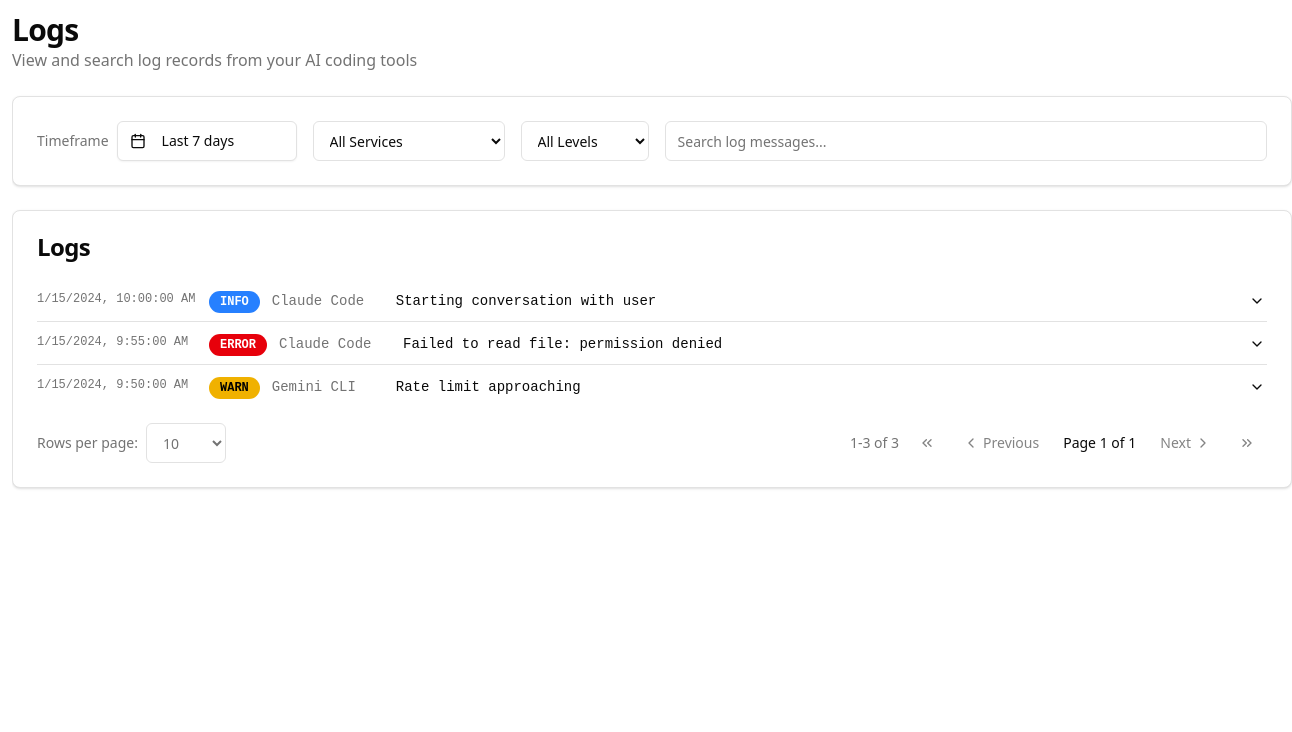
Scenario: LogsPage › collapses expanded log when clicking again
The width and height of the screenshot is (1292, 732).
Expected: the text "Starting conversation with user" is shown, x1=396 y1=293 x2=656 y2=309
# Click to expand
What coordinates should you click on to do the following:
click the button "Starting conversation with user"
I would click on:
 (652, 302)
Its box is x1=37 y1=291 x2=1267 y2=313.
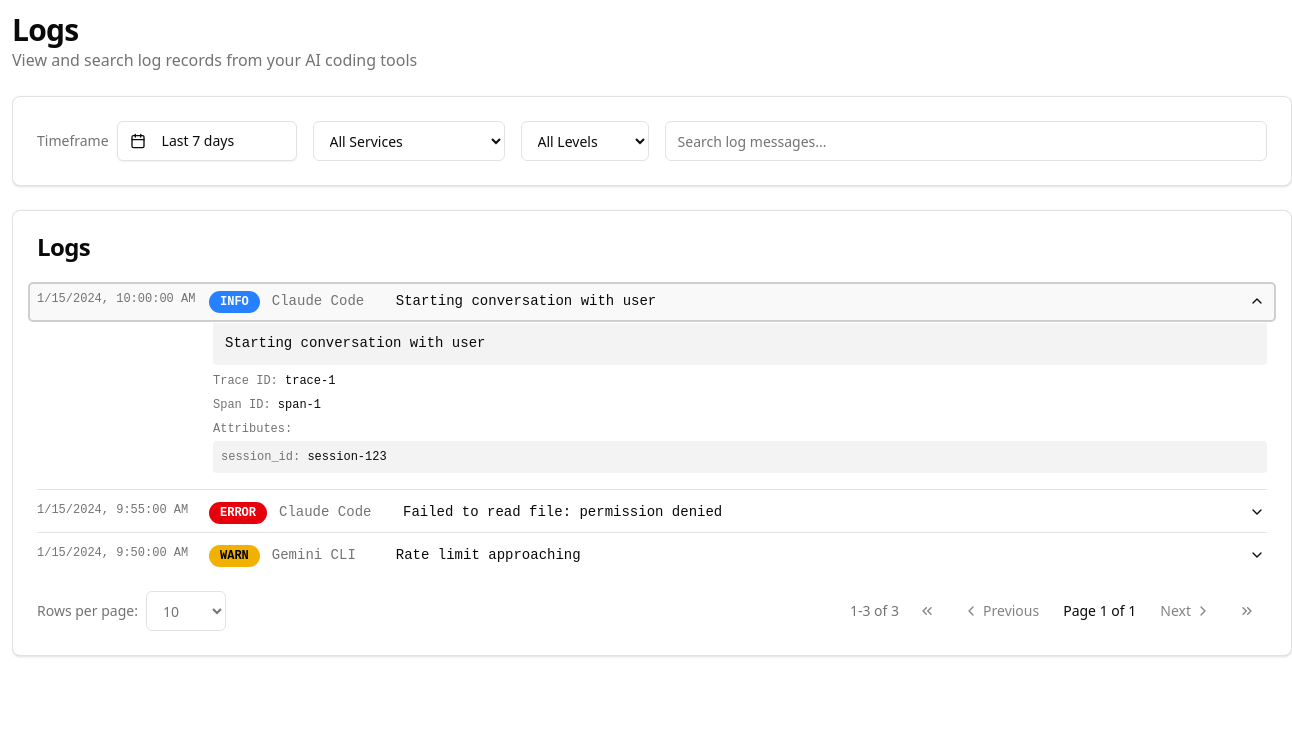
Expected: the text "Trace ID:" is shown, x1=213 y1=374 x2=285 y2=388
# Click again to collapse
What coordinates should you click on to do the following:
click the button "Starting conversation with user"
I would click on:
 (652, 302)
Its box is x1=29 y1=283 x2=1275 y2=321.
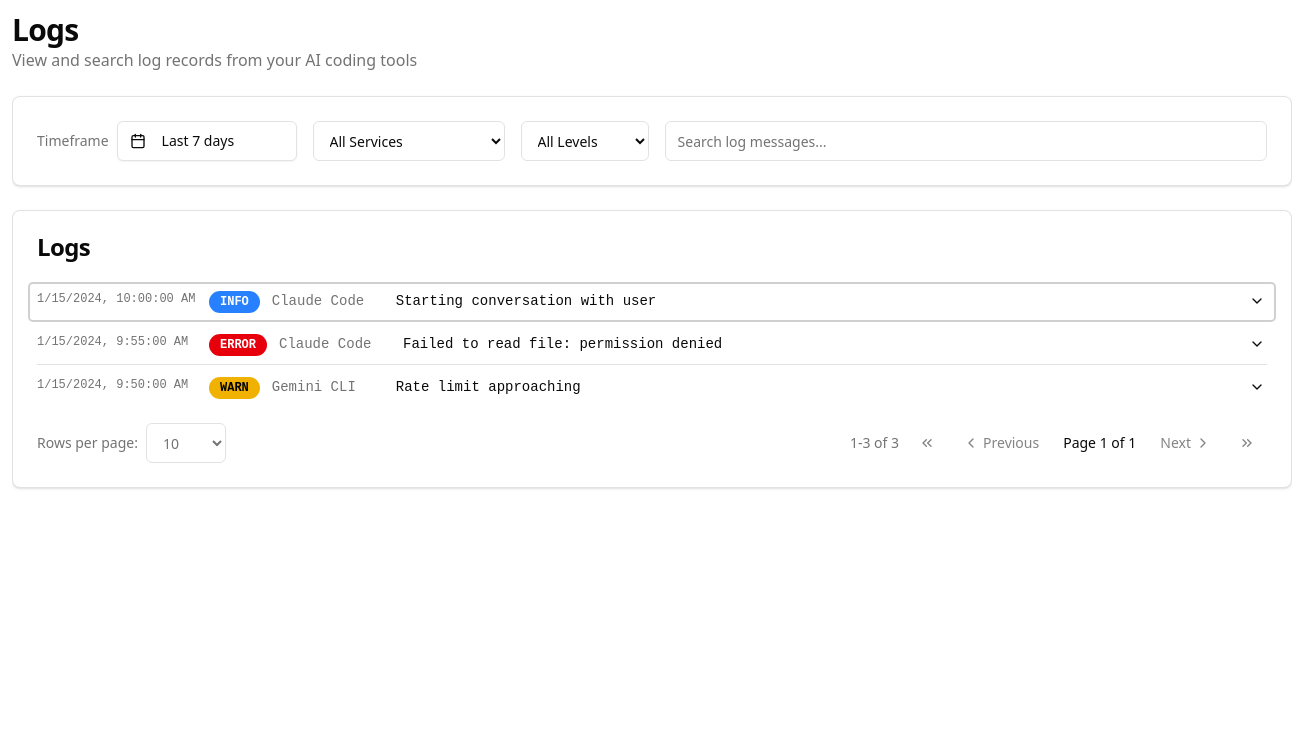
Expected: the text "Trace ID" is gone
